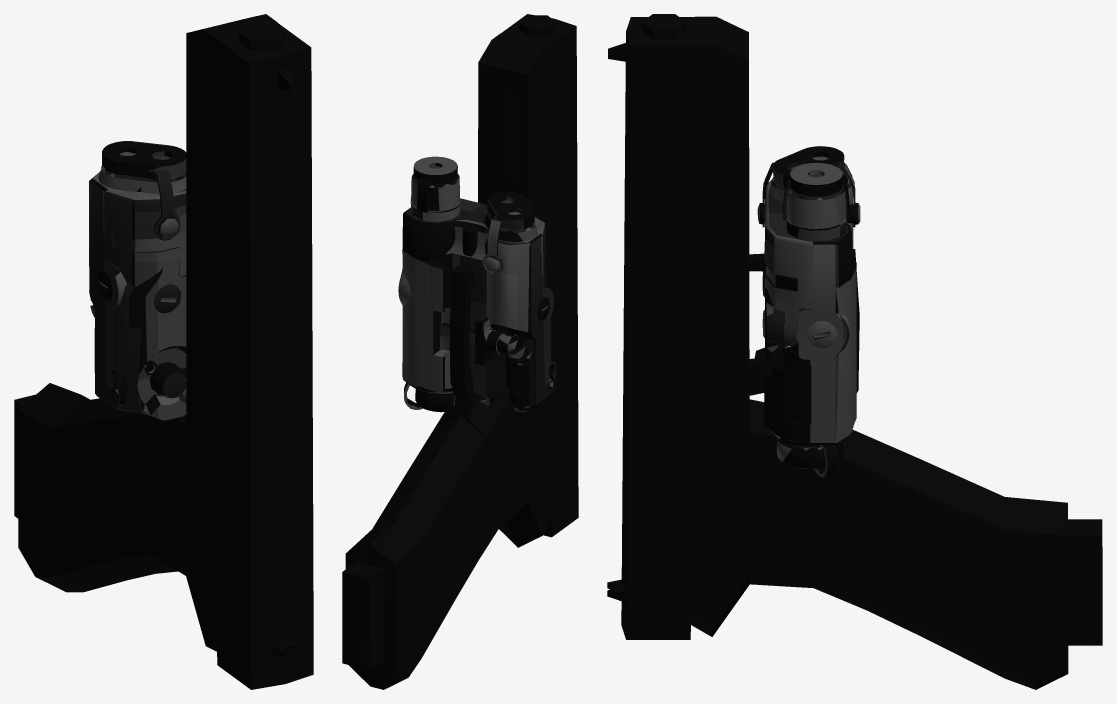
File: Glock17__Laser_Rifle.fbx
3 views of the same model, side by side, from view 1: azimuth 30°, elevation 25°; view 2: azimuth 150°, elevation 25°; view 3: azimuth 270°, elevation 25° (orthographic). The views are drawn at different scales.
Visible parts, largest first — view 1: asset_Glock17.001; view 2: asset_Glock17.001; view 3: asset_Glock17.001.
Part boxes in pixels (x1,y1,x2,y2): asset_Glock17.001: (14, 14, 313, 689); asset_Glock17.001: (342, 14, 578, 689); asset_Glock17.001: (607, 14, 1102, 689).
Size of the model in its own units: 0.0289 by 0.1152 by 0.0774.
